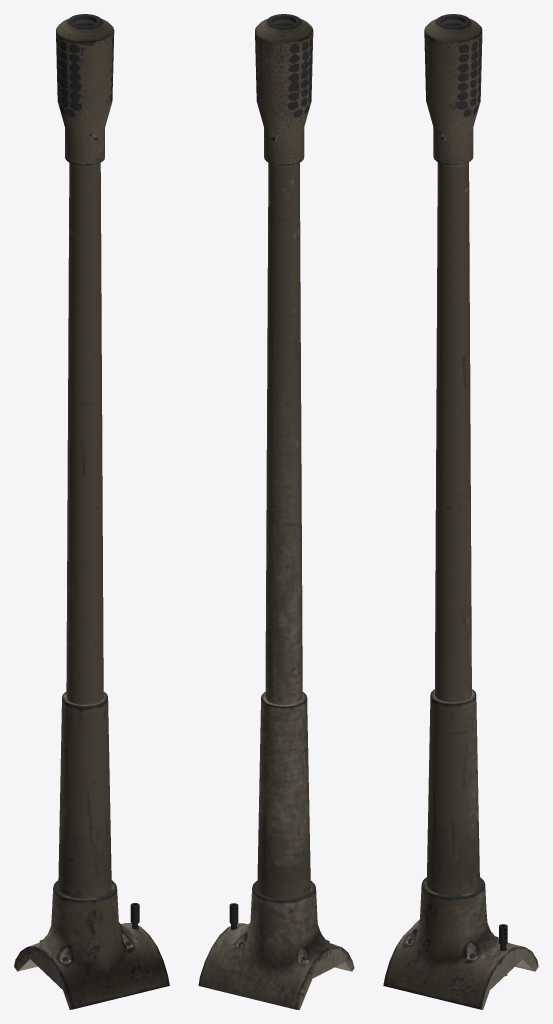
The model's file is Gun_01.glb.
3 renders of one model, left to right at view 1: azimuth 30°, elevation 25°; view 2: azimuth 150°, elevation 25°; view 3: azimuth 330°, elevation 25°, orthographic.
Parts seen in each view (by area): view 1: set_0_group_0; view 2: set_0_group_0; view 3: set_0_group_0.
Boxes of the visible parts, x1,y1,x2,y2 form: set_0_group_0: (14,14,169,1009); set_0_group_0: (198,14,354,1009); set_0_group_0: (383,14,538,1009).
Bounding box in the file's own units: 0.5403 × 5.05 × 0.5538.
1 material, 1 textured.
